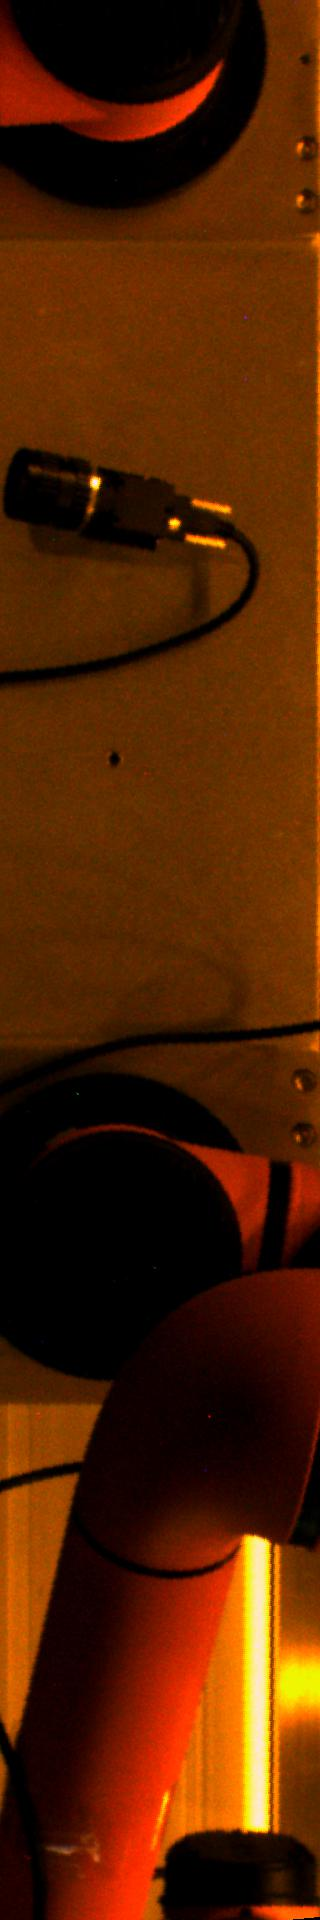keyPoint_2: (98, 744, 128, 775)
